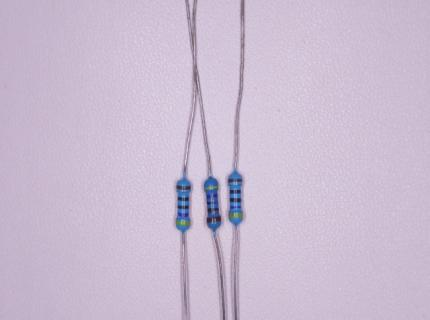Black band: (207, 208, 219, 214), (229, 197, 241, 203), (207, 200, 219, 206), (229, 189, 241, 194), (177, 196, 189, 201), (177, 204, 188, 209)
Brown band: (206, 216, 222, 224), (176, 184, 190, 190), (227, 179, 241, 183)
Violet band: (206, 193, 217, 200), (177, 212, 189, 217), (231, 205, 242, 209)
Yellow band: (203, 185, 218, 191), (175, 219, 190, 225), (229, 212, 243, 218)
